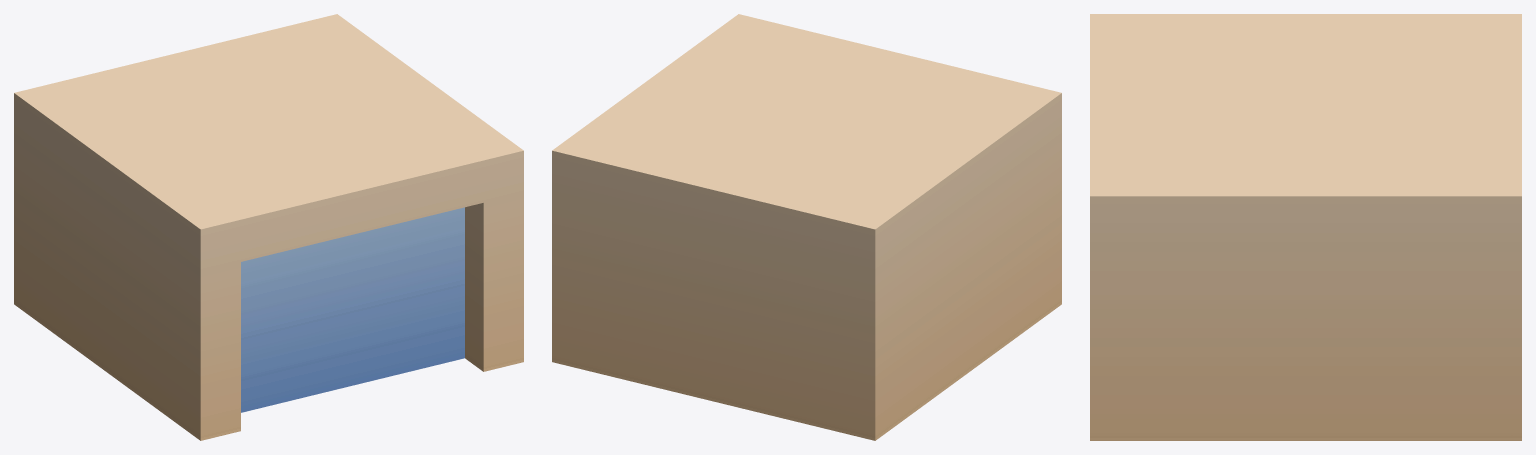
File: building-window-large.glb
The picture shows the model from 3 angles, left to right: view 1: azimuth 30°, elevation 25°; view 2: azimuth 150°, elevation 25°; view 3: azimuth 270°, elevation 25°; orthographic projection. The views are drawn at different scales.
Visible parts, largest first — view 1: building-window-large; view 2: building-window-large; view 3: building-window-large.
Part boxes in pixels (x1=…): building-window-large: x1=14, y1=14, x2=523, y2=440; building-window-large: x1=552, y1=14, x2=1061, y2=440; building-window-large: x1=1090, y1=14, x2=1521, y2=440.
Size of the model in its own units: 1 by 0.625 by 1.
Materials: 1 (1 with a texture image).
